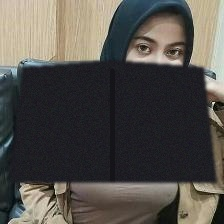Cadar_Niqab: (9, 0, 216, 182)
